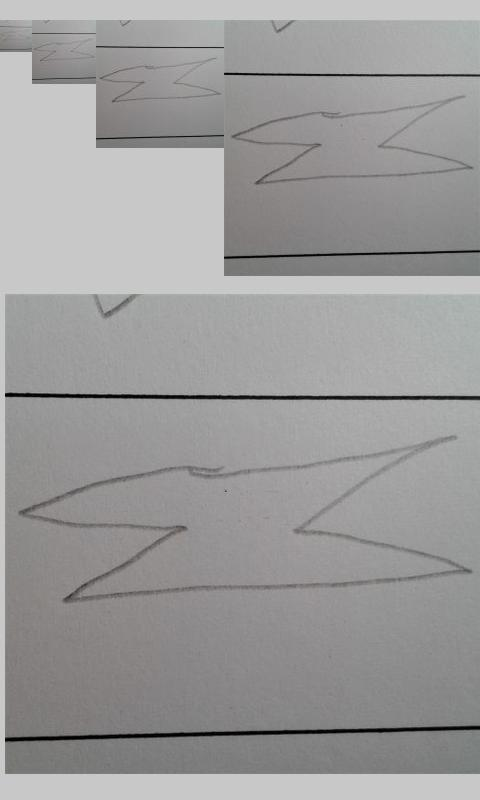edit_text: (24, 437, 472, 603), (230, 92, 474, 186), (99, 58, 221, 103), (33, 38, 95, 62), (1, 30, 31, 41)
